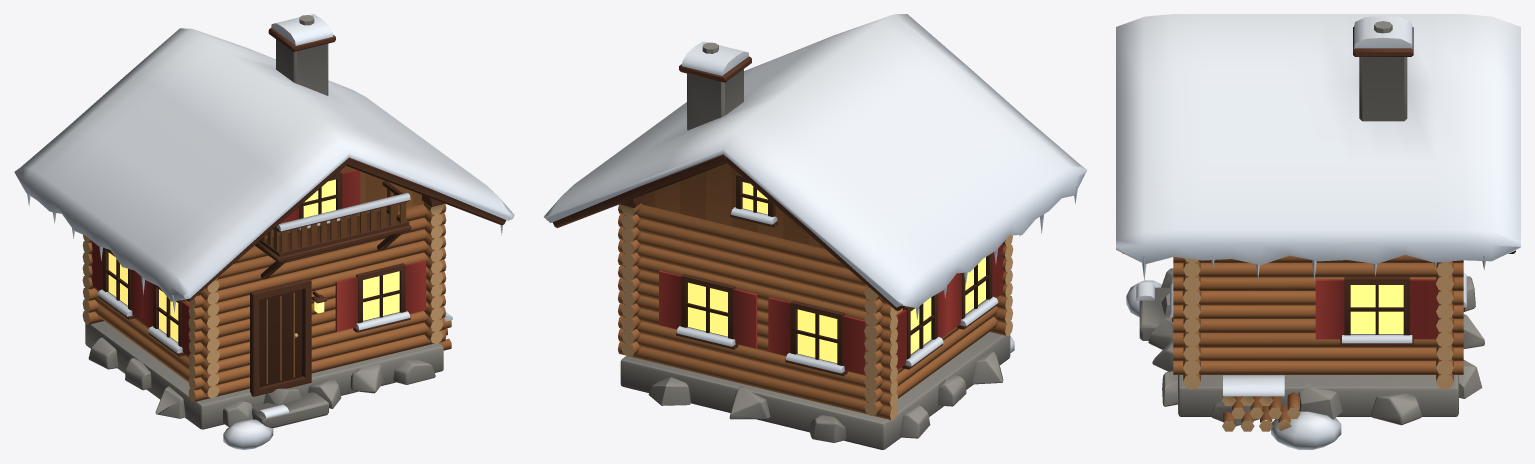
Rendered from alpine-cabin.glb.
The picture shows the model from 3 angles, left to right: view 1: azimuth 30°, elevation 25°; view 2: azimuth 150°, elevation 25°; view 3: azimuth 270°, elevation 25°; orthographic projection. The views are drawn at different scales.
Parts seen in each view (by area): view 1: Alpine cabin Cabin snow, Alpine cabin Cabin logs, Alpine cabin Cabin dark wood, Alpine cabin Cabin stone, Alpine cabin Cabin shutters, Alpine cabin Cabin log ends, Alpine cabin Cabin window glow; view 2: Alpine cabin Cabin snow, Alpine cabin Cabin logs, Alpine cabin Cabin stone, Alpine cabin Cabin dark wood, Alpine cabin Cabin shutters, Alpine cabin Cabin window glow, Alpine cabin Cabin log ends; view 3: Alpine cabin Cabin snow, Alpine cabin Cabin logs, Alpine cabin Cabin stone, Alpine cabin Cabin log ends, Alpine cabin Cabin shutters, Alpine cabin Cabin dark wood, Alpine cabin Cabin window glow.
Part boxes in pixels (x1,y1,x2,y2): Alpine cabin Cabin snow: (14, 14, 514, 449); Alpine cabin Cabin logs: (84, 165, 451, 401); Alpine cabin Cabin dark wood: (98, 28, 506, 396); Alpine cabin Cabin stone: (85, 15, 443, 429); Alpine cabin Cabin shutters: (91, 169, 426, 355); Alpine cabin Cabin log ends: (82, 204, 443, 401); Alpine cabin Cabin window glow: (108, 179, 399, 342); Alpine cabin Cabin snow: (544, 14, 1087, 373); Alpine cabin Cabin logs: (617, 163, 1011, 419); Alpine cabin Cabin stone: (620, 42, 1010, 449); Alpine cabin Cabin dark wood: (552, 56, 997, 376); Alpine cabin Cabin shutters: (659, 243, 1004, 375); Alpine cabin Cabin window glow: (688, 182, 985, 363); Alpine cabin Cabin log ends: (621, 205, 1013, 420); Alpine cabin Cabin snow: (1116, 14, 1520, 449); Alpine cabin Cabin logs: (1173, 255, 1463, 422); Alpine cabin Cabin stone: (1139, 21, 1484, 426); Alpine cabin Cabin log ends: (1182, 258, 1453, 431); Alpine cabin Cabin shutters: (1315, 279, 1438, 339); Alpine cabin Cabin dark wood: (1122, 27, 1515, 345); Alpine cabin Cabin window glow: (1350, 285, 1403, 333).
Bounding box in the file's own units: 7.52 × 6.85 × 6.56.
